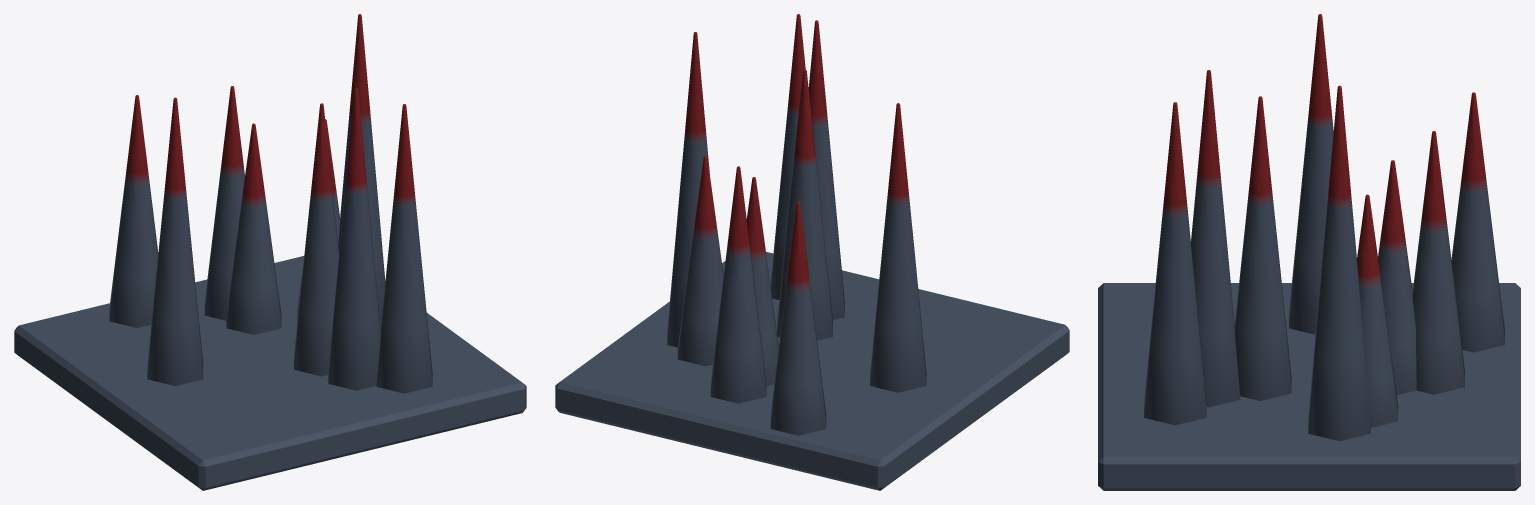
Rendered from prop_spikesundefined_84a6.glb.
The picture shows the model from 3 angles, left to right: view 1: azimuth 30°, elevation 25°; view 2: azimuth 150°, elevation 25°; view 3: azimuth 270°, elevation 25°; orthographic projection. The views are drawn at different scales.
Parts seen in each view (by area): view 1: prop_spikesundefined_84a6; view 2: prop_spikesundefined_84a6; view 3: prop_spikesundefined_84a6.
Boxes of the visible parts, x1=… form: prop_spikesundefined_84a6: x1=14, y1=14, x2=526, y2=490; prop_spikesundefined_84a6: x1=555, y1=14, x2=1069, y2=490; prop_spikesundefined_84a6: x1=1098, y1=14, x2=1520, y2=490.
Bounding box in the file's own units: 0.7954 × 0.8036 × 0.7954.
Materials: 1 (1 with a texture image).
